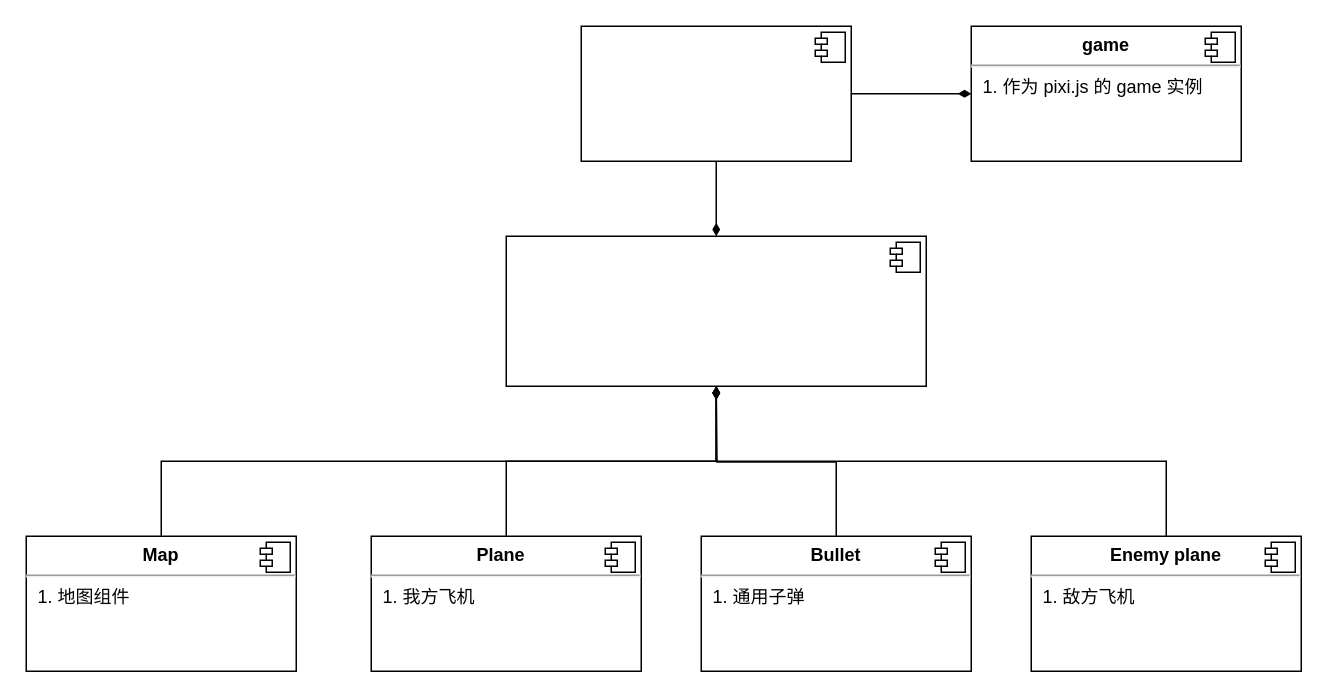
The diagram is 1328 pixels wide and 698 high, and some of its shapes have lost their labels. Each missing label, with the centre of its shape:
"index 1. setup vue + pixi.js" goes at [715,93].
"RootComponent 1. 作为整个游戏的根组件" goes at [715,310].
